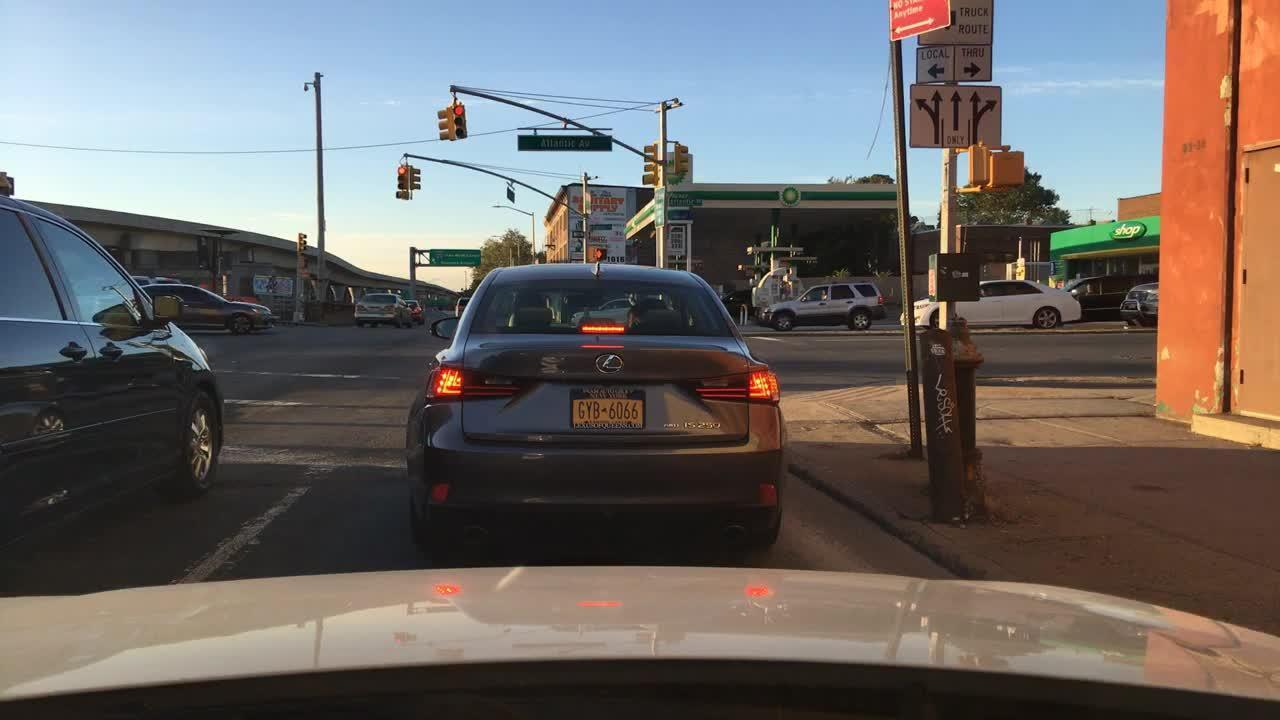lexus: (593, 352, 625, 376)
